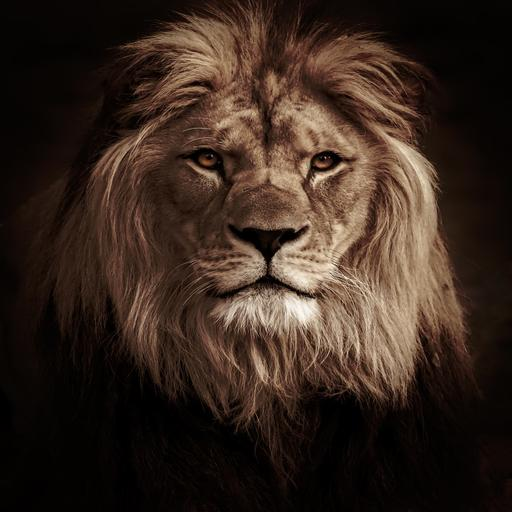Lion: (8, 0, 503, 505)
